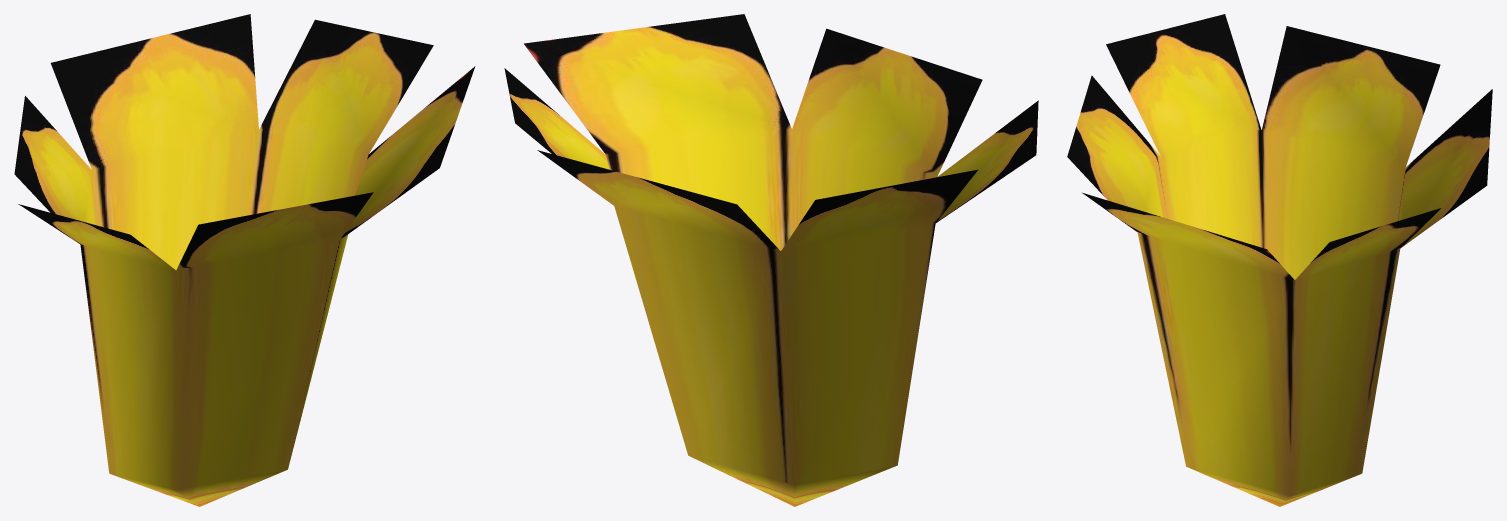
Rendered from petal_4.gltf.
The picture shows the model from 3 angles, left to right: view 1: azimuth 30°, elevation 25°; view 2: azimuth 150°, elevation 25°; view 3: azimuth 270°, elevation 25°; orthographic projection. The views are drawn at different scales.
Visible parts, largest first — view 1: Petal_4; view 2: Petal_4; view 3: Petal_4.
Boxes of the visible parts, x1,y1,x2,y2 form: Petal_4: (14, 14, 475, 506); Petal_4: (504, 14, 1038, 506); Petal_4: (1067, 14, 1492, 506).
Bounding box in the file's own units: 0.3291 × 0.2521 × 0.2445.
1 material, 1 textured.
